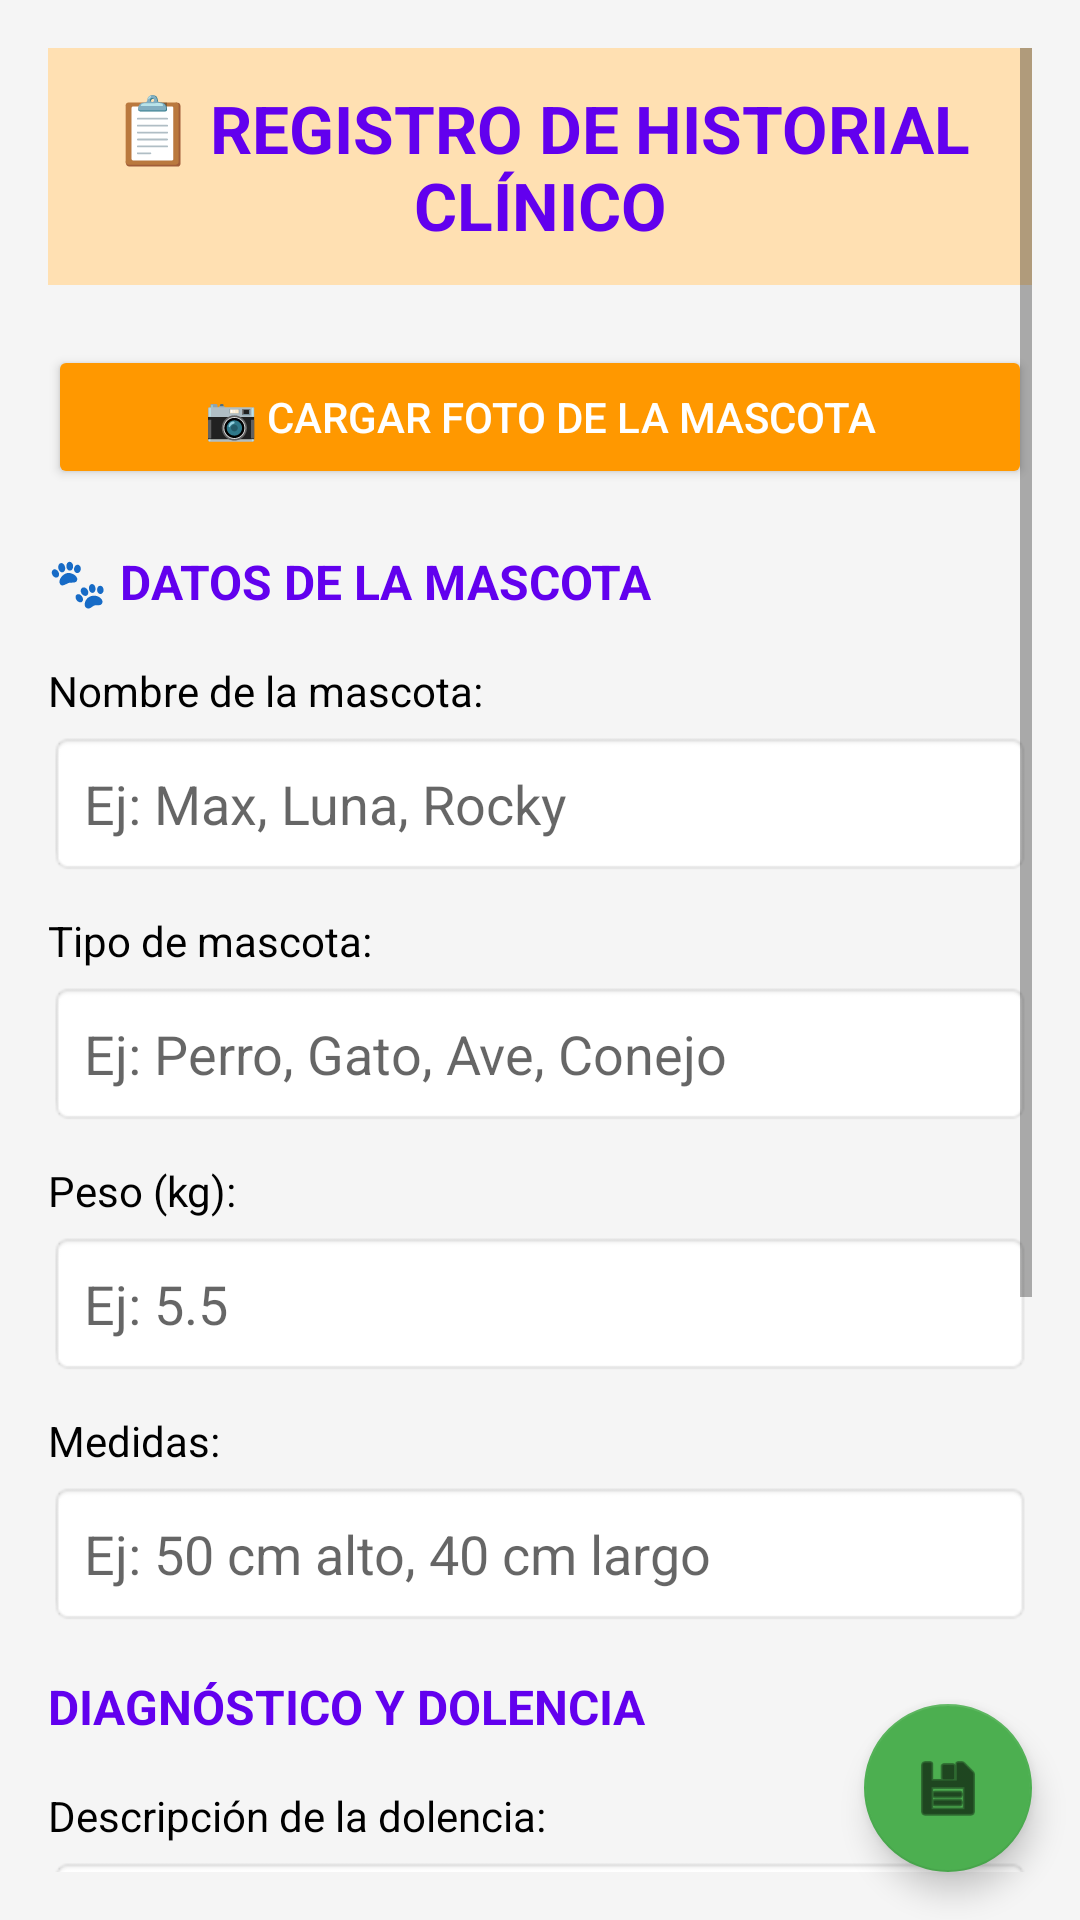

Point at icon controls on the screen. Image size 1080 x 1920, points as point (x, y).
Guardar historial: point (948, 1788)
